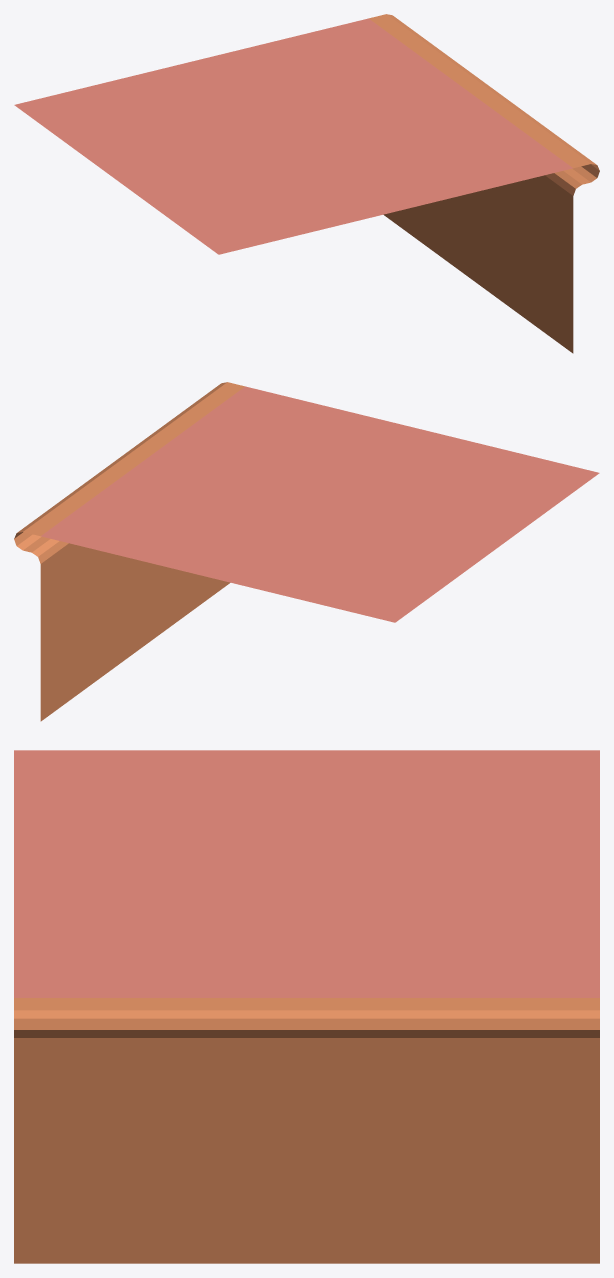
Rendered from Foundation_1_Standard.fbx.
3 renders of one model, top to bottom at view 1: azimuth 30°, elevation 25°; view 2: azimuth 150°, elevation 25°; view 3: azimuth 270°, elevation 25°, orthographic. The views are drawn at different scales.
Visible parts, largest first — view 1: Foundation_1_Standard; view 2: Foundation_1_Standard; view 3: Foundation_1_Standard.
Part boxes in pixels (box(x1,y1,x2,y2)): Foundation_1_Standard: box(14, 14, 599, 353); Foundation_1_Standard: box(14, 382, 599, 721); Foundation_1_Standard: box(14, 750, 599, 1263).
Size of the model in its own units: 215 by 100 by 200.
